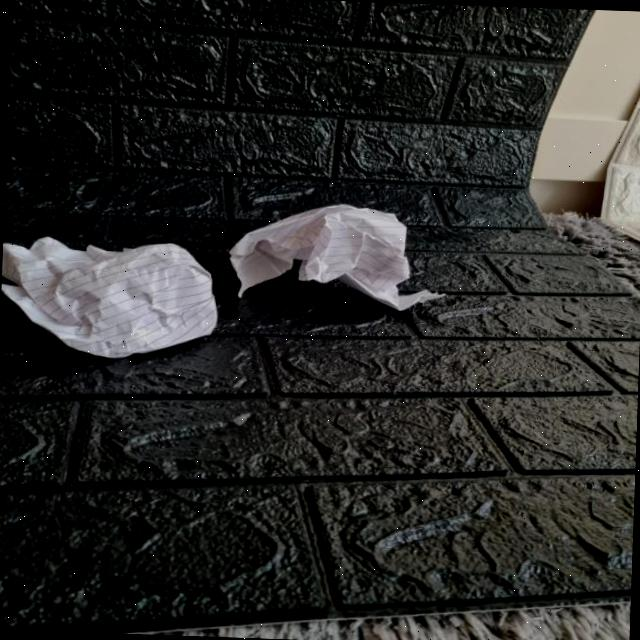trash: (0, 239, 226, 358), (232, 202, 414, 318)
